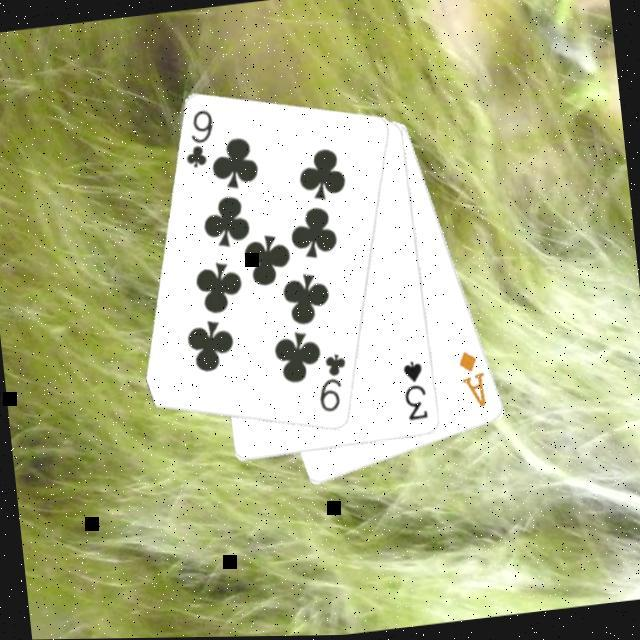3S: (399, 359, 434, 426)
9C: (314, 352, 356, 418), (180, 108, 222, 174)
AD: (457, 349, 493, 414)
